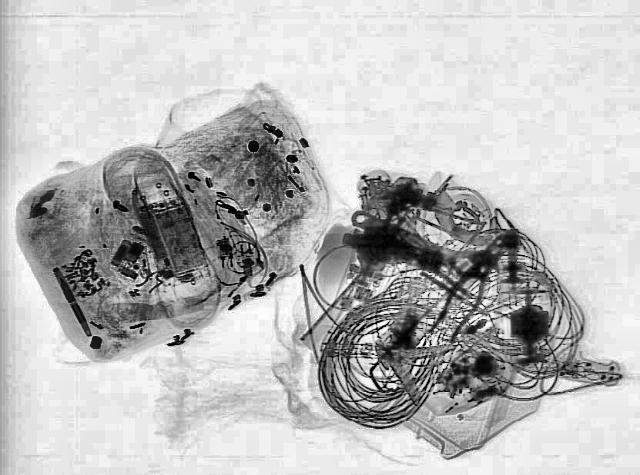Pliers: (418, 245, 508, 347)
Wrench: (336, 199, 510, 291)
